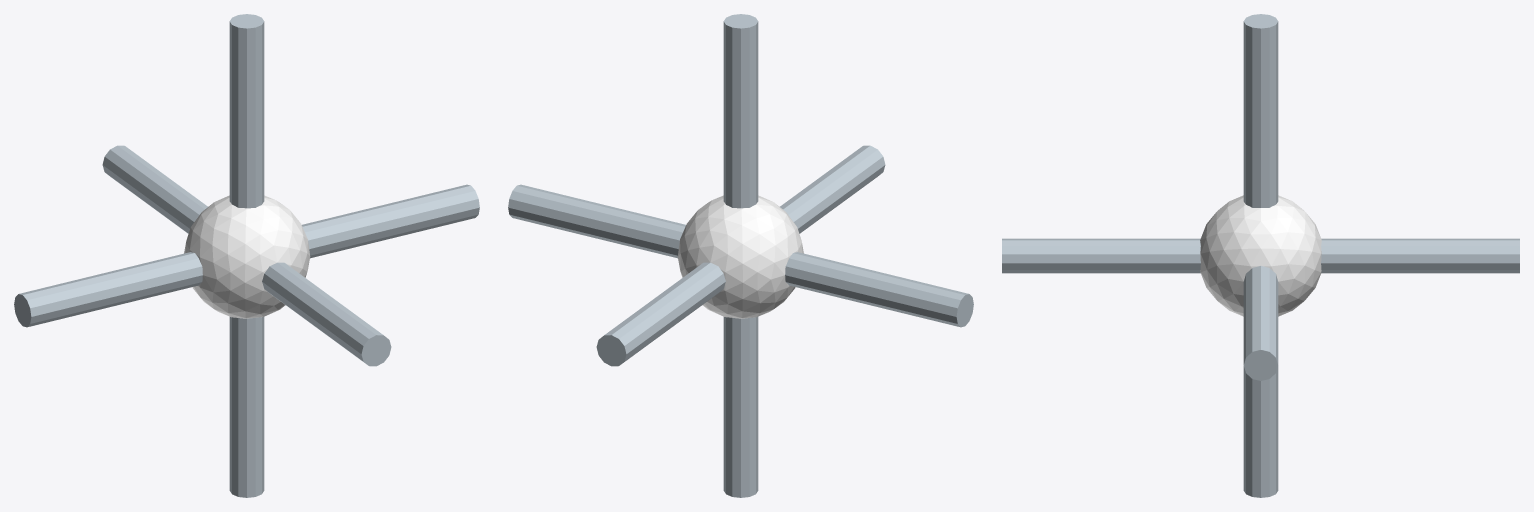
File: ironclad-frame.glb
3 renders of one model, left to right at view 1: azimuth 30°, elevation 25°; view 2: azimuth 150°, elevation 25°; view 3: azimuth 270°, elevation 25°, orthographic.
Visible parts, largest first — view 1: world; view 2: world; view 3: world.
Part boxes in pixels (left/top/right/bottom): world: left=14, top=14, right=479, bottom=497; world: left=508, top=14, right=973, bottom=497; world: left=1002, top=14, right=1519, bottom=497.
Bounding box in the file's own units: 2 × 2 × 2.
Materials: 1 (1 with a texture image).
